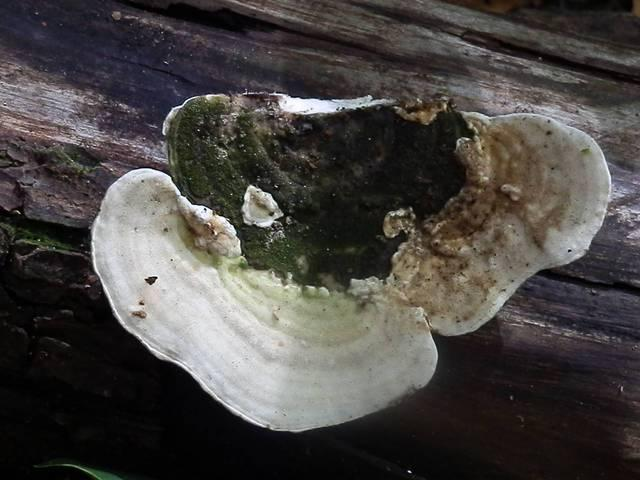poisonous_mushroom: (88, 88, 612, 433)
